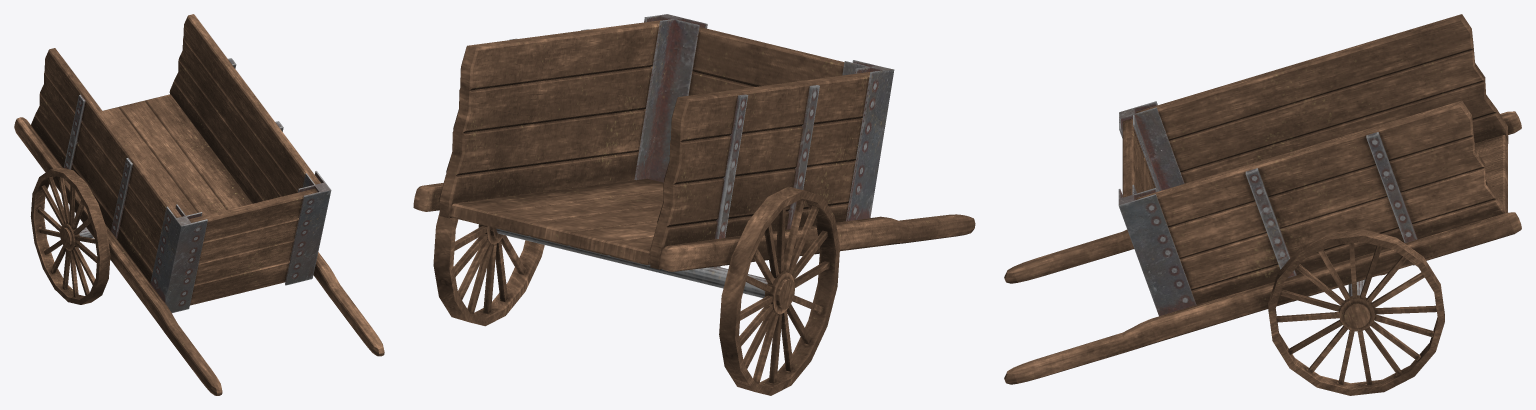
The model's file is Cart.fbx.
3 renders of one model, left to right at view 1: azimuth 30°, elevation 25°; view 2: azimuth 150°, elevation 25°; view 3: azimuth 270°, elevation 25°, orthographic. The views are drawn at different scales.
Parts seen in each view (by area): view 1: Cart; view 2: Cart; view 3: Cart.
Boxes of the visible parts, bbox=[...] form: Cart: bbox=[14, 14, 384, 395]; Cart: bbox=[413, 14, 975, 395]; Cart: bbox=[1004, 14, 1521, 395].
Bounding box in the file's own units: 150 × 155 × 266.
